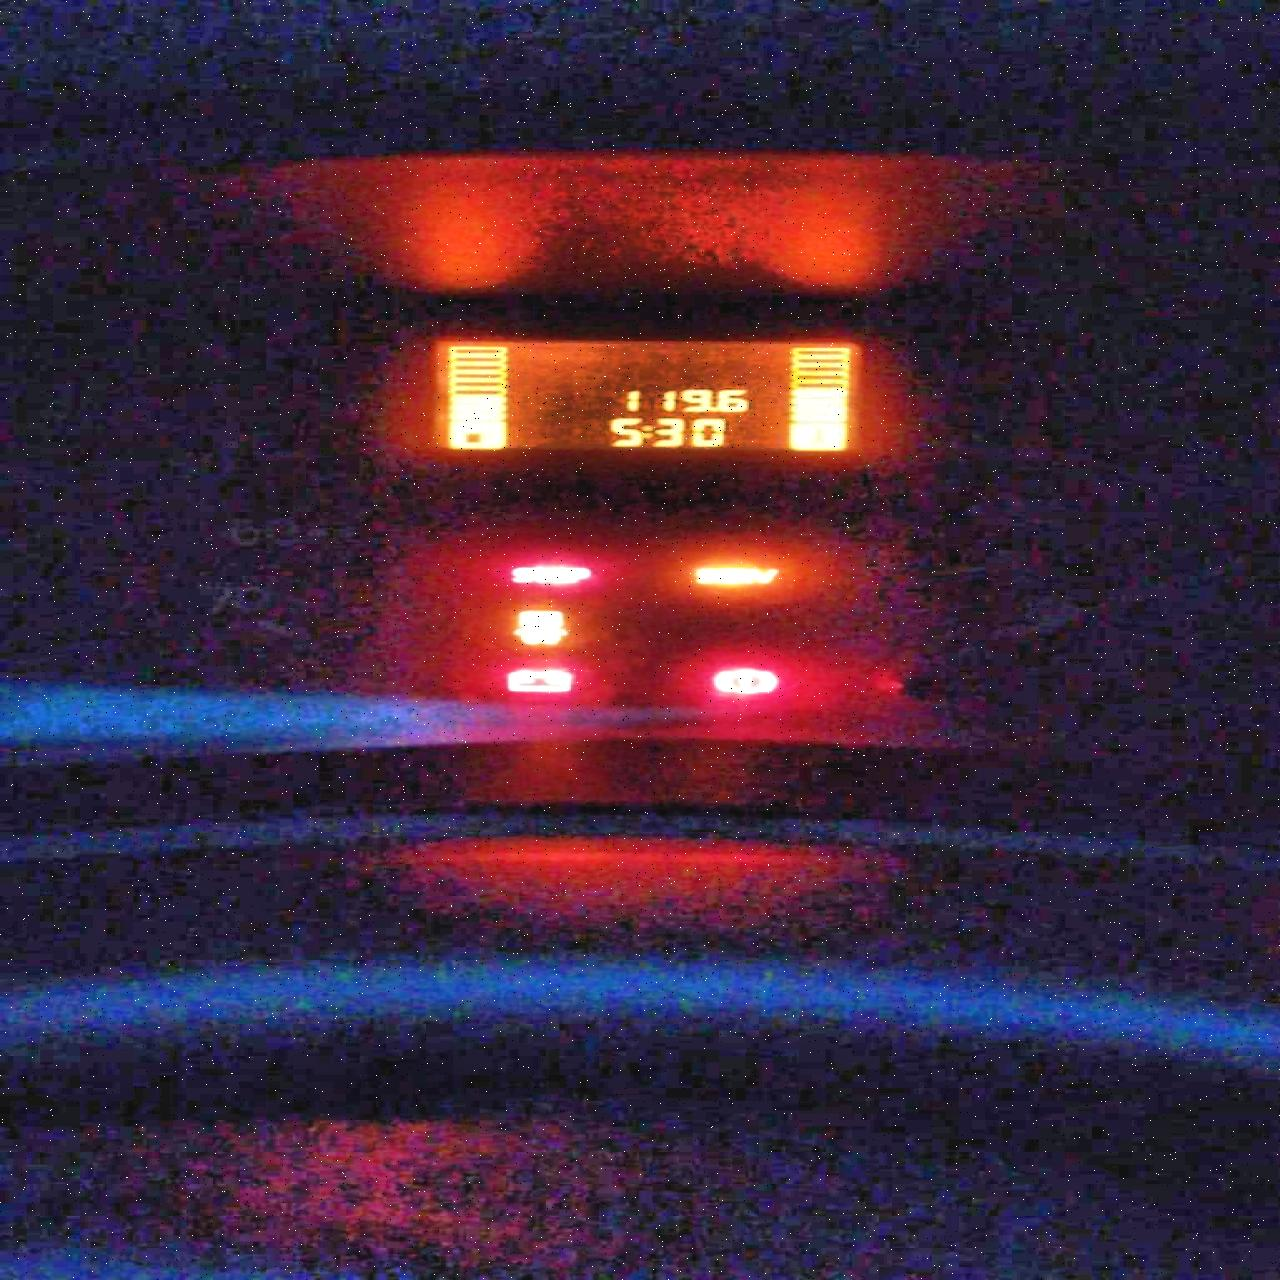-: (710, 405, 716, 412)
0: (689, 418, 726, 447)
1: (624, 389, 639, 411), (661, 390, 676, 411)
3: (651, 417, 684, 446)
5: (608, 417, 642, 447)
6: (714, 389, 746, 412)
9: (679, 389, 711, 412)
X: (639, 424, 653, 438)
odometer: (424, 338, 868, 454)
